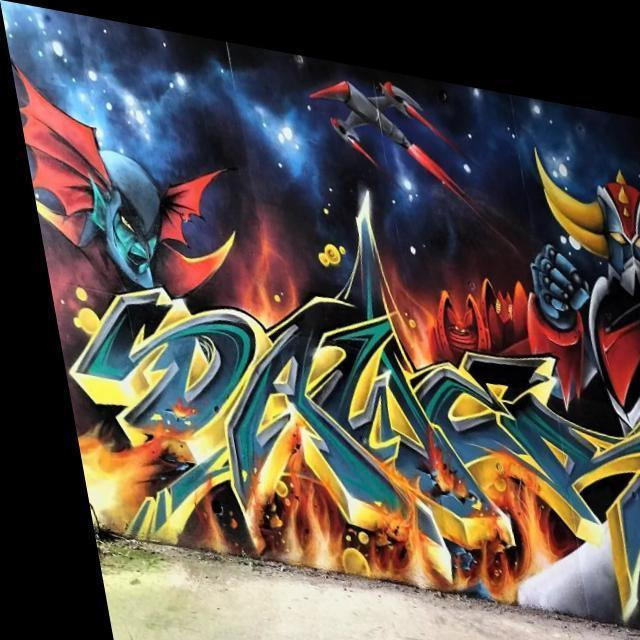nonspitting: (71, 287, 640, 617)
spitting: (15, 67, 238, 294), (530, 147, 640, 331), (311, 80, 462, 196)
